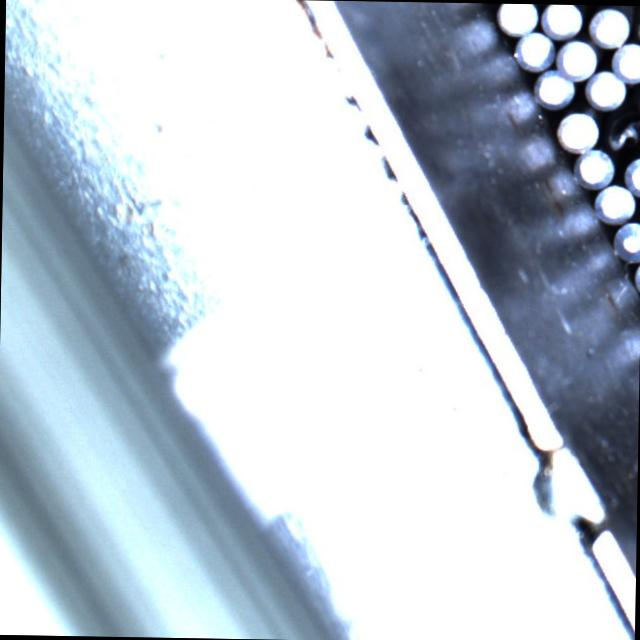tool: (555, 107, 599, 152), (584, 5, 628, 50), (569, 147, 615, 189), (592, 180, 636, 222), (582, 70, 626, 110), (534, 68, 576, 108), (515, 30, 556, 70), (556, 36, 597, 76), (607, 38, 640, 84), (542, 3, 583, 38), (496, 3, 540, 33), (610, 221, 640, 263), (616, 153, 640, 195)
tool_b: (603, 110, 640, 153)
